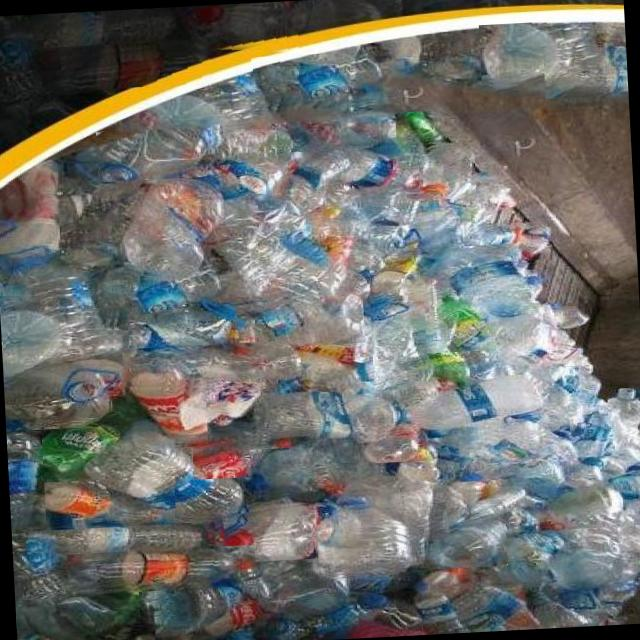plastic bottle: (101, 432, 252, 528), (0, 253, 121, 364), (114, 175, 227, 282), (119, 341, 301, 400), (66, 544, 257, 596), (314, 494, 418, 580), (39, 41, 212, 92), (30, 476, 177, 535), (251, 388, 406, 442), (126, 299, 239, 373), (405, 373, 544, 432), (233, 288, 364, 350), (25, 410, 135, 482), (250, 51, 383, 110), (2, 363, 114, 432), (94, 123, 221, 183), (25, 523, 200, 564), (121, 368, 207, 450), (220, 501, 326, 563), (368, 289, 429, 392), (192, 3, 304, 59), (456, 424, 557, 482), (0, 163, 60, 259), (478, 22, 556, 90), (0, 295, 63, 379), (249, 445, 345, 500), (42, 9, 175, 48), (422, 286, 496, 354), (324, 146, 419, 198), (191, 432, 296, 479), (126, 271, 235, 315), (542, 43, 627, 99), (138, 586, 250, 628), (399, 142, 476, 202), (14, 595, 116, 640), (423, 516, 507, 570), (152, 598, 256, 640), (5, 431, 46, 532), (486, 530, 561, 584), (210, 120, 290, 166), (444, 485, 531, 527), (547, 486, 625, 530), (0, 19, 61, 74), (286, 150, 352, 200), (410, 582, 469, 636), (354, 592, 422, 638), (367, 242, 421, 298), (566, 406, 618, 458), (356, 426, 426, 464), (529, 588, 587, 630), (548, 364, 603, 406), (424, 343, 469, 393), (394, 110, 449, 148), (507, 220, 553, 262), (485, 275, 545, 303), (541, 302, 592, 334), (606, 387, 640, 431), (461, 222, 516, 246)
